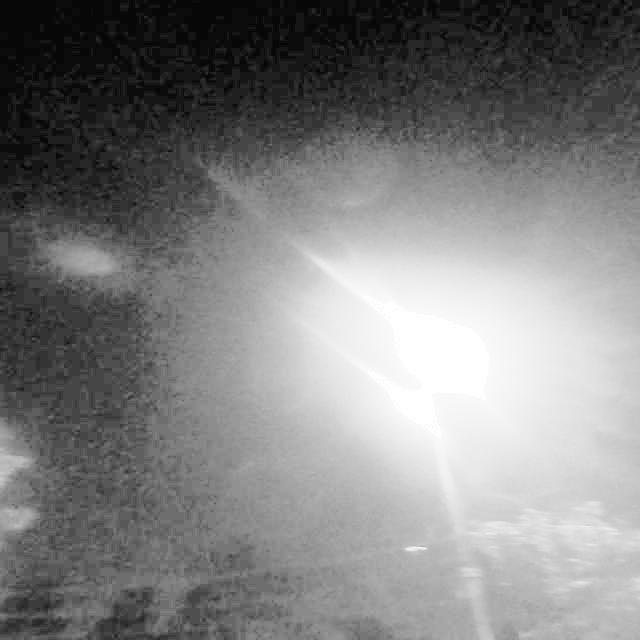Light: (374, 296, 498, 387), (373, 374, 446, 439)
